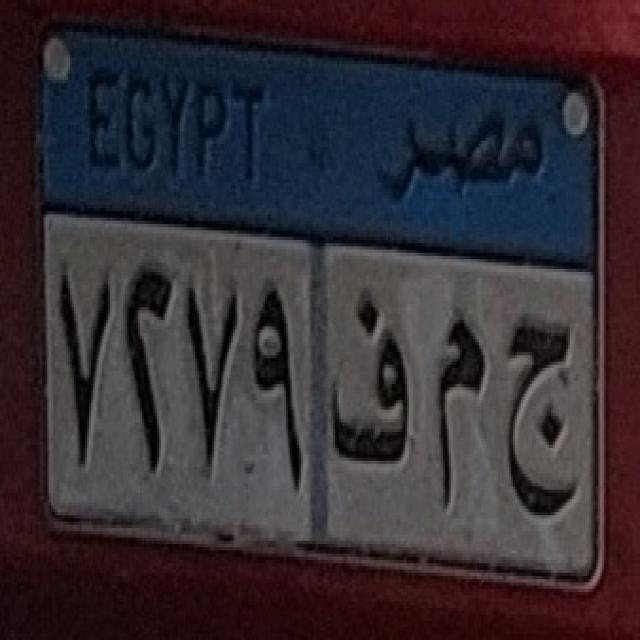2: (109, 246, 182, 492)
7: (38, 255, 122, 480), (173, 273, 244, 487)
9: (245, 280, 313, 500)
F: (322, 280, 422, 484)
Meem: (423, 315, 489, 529)
geem: (494, 322, 584, 522)
